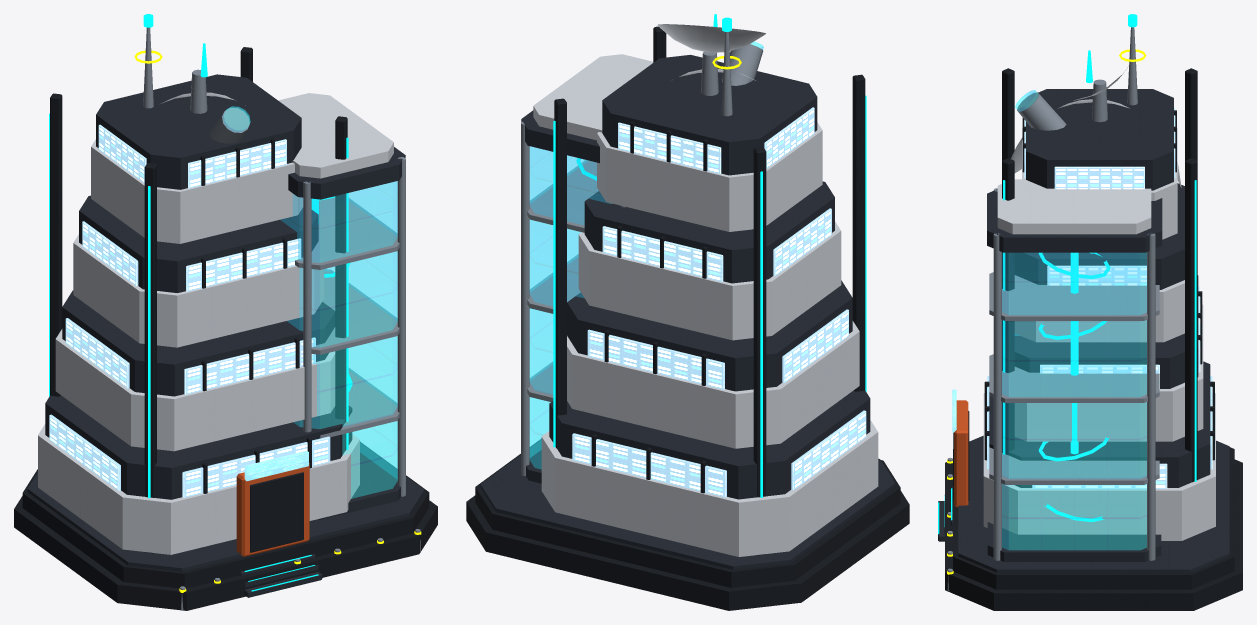
Rendered from bldg_08_r1_04.glb.
The picture shows the model from 3 angles, left to right: view 1: azimuth 30°, elevation 25°; view 2: azimuth 150°, elevation 25°; view 3: azimuth 270°, elevation 25°; orthographic projection. The views are drawn at different scales.
Visible parts, largest first — view 1: Bldg08_C04_aero_white, Bldg08_C04_carbon_slate, Bldg08_C04_gunmetal, Bldg08_C04_glass_cyan, Bldg08_C04_window_lit, Bldg08_C04_steel_machined, Bldg08_C04_led_cyan, Bldg08_C04_accent_orange, Bldg08_C04_marquee; view 2: Bldg08_C04_aero_white, Bldg08_C04_carbon_slate, Bldg08_C04_gunmetal, Bldg08_C04_window_lit, Bldg08_C04_steel_machined, Bldg08_C04_glass_cyan, Bldg08_C04_led_cyan; view 3: Bldg08_C04_carbon_slate, Bldg08_C04_glass_cyan, Bldg08_C04_aero_white, Bldg08_C04_gunmetal, Bldg08_C04_steel_machined, Bldg08_C04_window_lit, Bldg08_C04_led_cyan, Bldg08_C04_accent_orange.
Boxes of the visible parts, x1,y1,x2,y2 form: Bldg08_C04_aero_white: (38, 92, 393, 554); Bldg08_C04_carbon_slate: (27, 74, 424, 597); Bldg08_C04_gunmetal: (14, 47, 437, 610); Bldg08_C04_glass_cyan: (223, 106, 397, 498); Bldg08_C04_window_lit: (49, 124, 330, 497); Bldg08_C04_steel_machined: (143, 27, 420, 610); Bldg08_C04_led_cyan: (49, 14, 352, 591); Bldg08_C04_accent_orange: (236, 463, 309, 556); Bldg08_C04_marquee: (244, 450, 308, 481); Bldg08_C04_aero_white: (533, 24, 878, 556); Bldg08_C04_carbon_slate: (480, 54, 895, 569); Bldg08_C04_gunmetal: (466, 26, 909, 610); Bldg08_C04_window_lit: (572, 107, 866, 497); Bldg08_C04_steel_machined: (521, 32, 763, 475); Bldg08_C04_glass_cyan: (529, 41, 763, 468); Bldg08_C04_led_cyan: (553, 14, 866, 497); Bldg08_C04_carbon_slate: (938, 89, 1229, 572); Bldg08_C04_glass_cyan: (1002, 90, 1146, 549); Bldg08_C04_aero_white: (983, 62, 1215, 540); Bldg08_C04_gunmetal: (945, 68, 1242, 610); Bldg08_C04_steel_machined: (947, 27, 1159, 591); Bldg08_C04_window_lit: (987, 108, 1212, 488); Bldg08_C04_led_cyan: (938, 14, 1196, 534); Bldg08_C04_accent_orange: (954, 400, 968, 507).
Bounding box in the file's own units: 12 × 18.22 × 10.23.
Materials: 10 (10 with a texture image).
